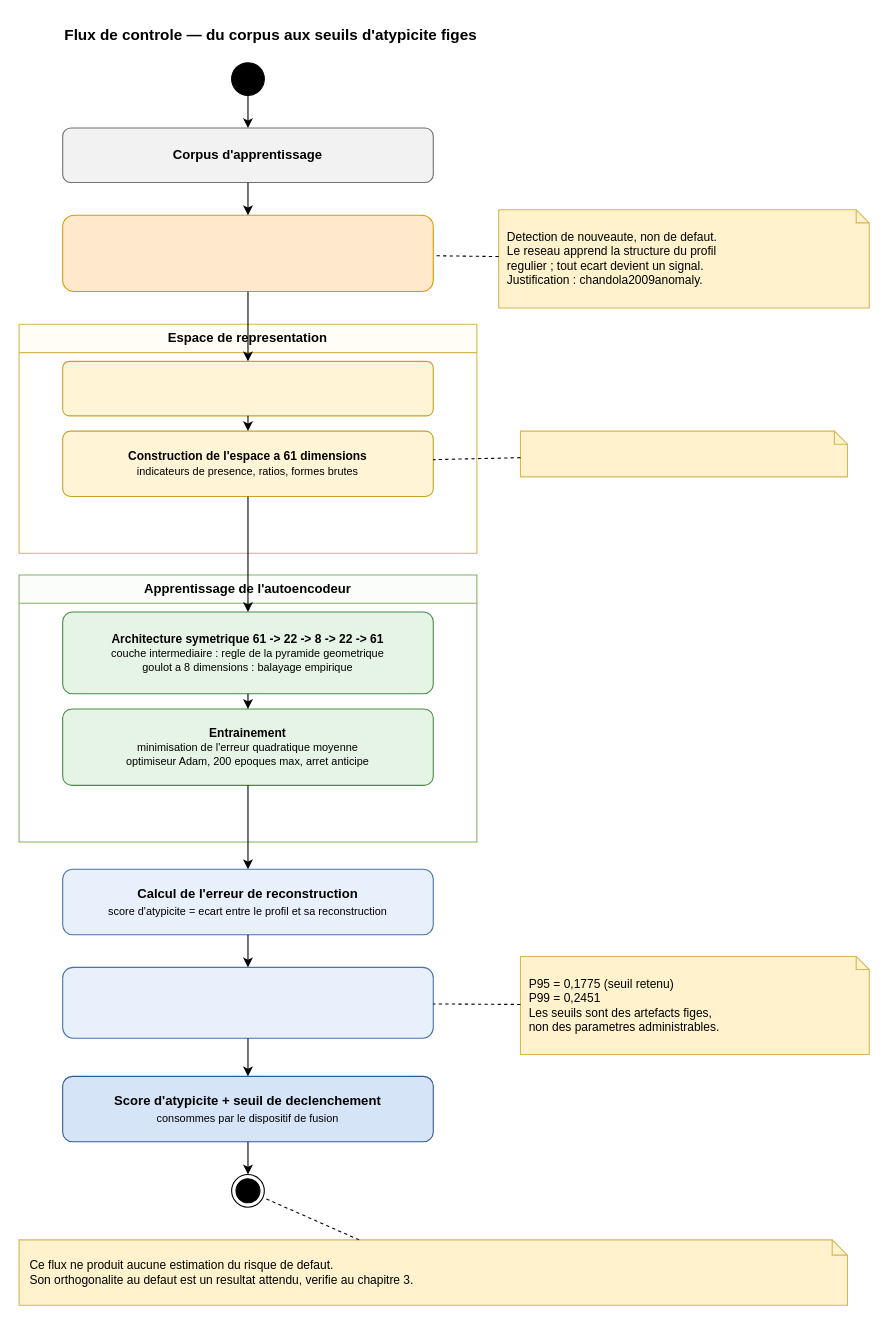
This 888x1324 diagram has some shape labels left out. The centre of each missing label's shape, as x and y in pixels:
61 dimensions: (683,453)
Determination des seuils par percentiles sur la distribution des bons payeurs: (247,1002)
Reprise des 27 variables NAP dans leur forme brute, non encodee en WOE: (247,388)
Restriction aux bons payeurs y = 0 uniquement: (247,253)
